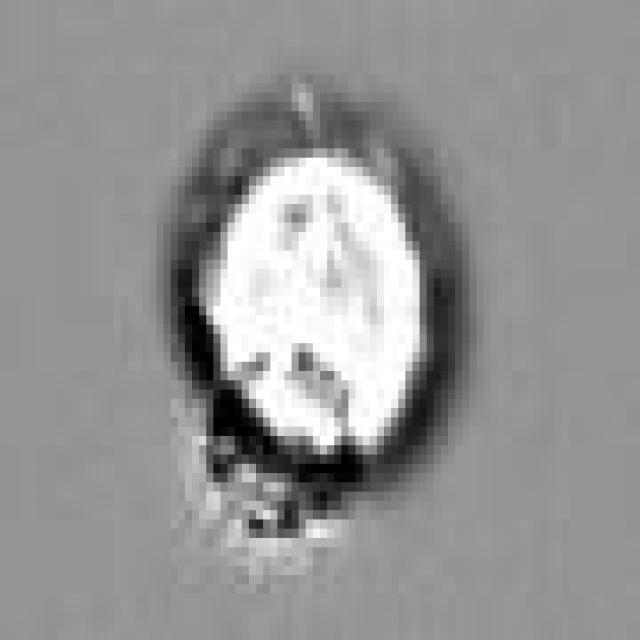Cancer Cell: (199, 148, 441, 464)
WBC: (206, 352, 363, 548)
